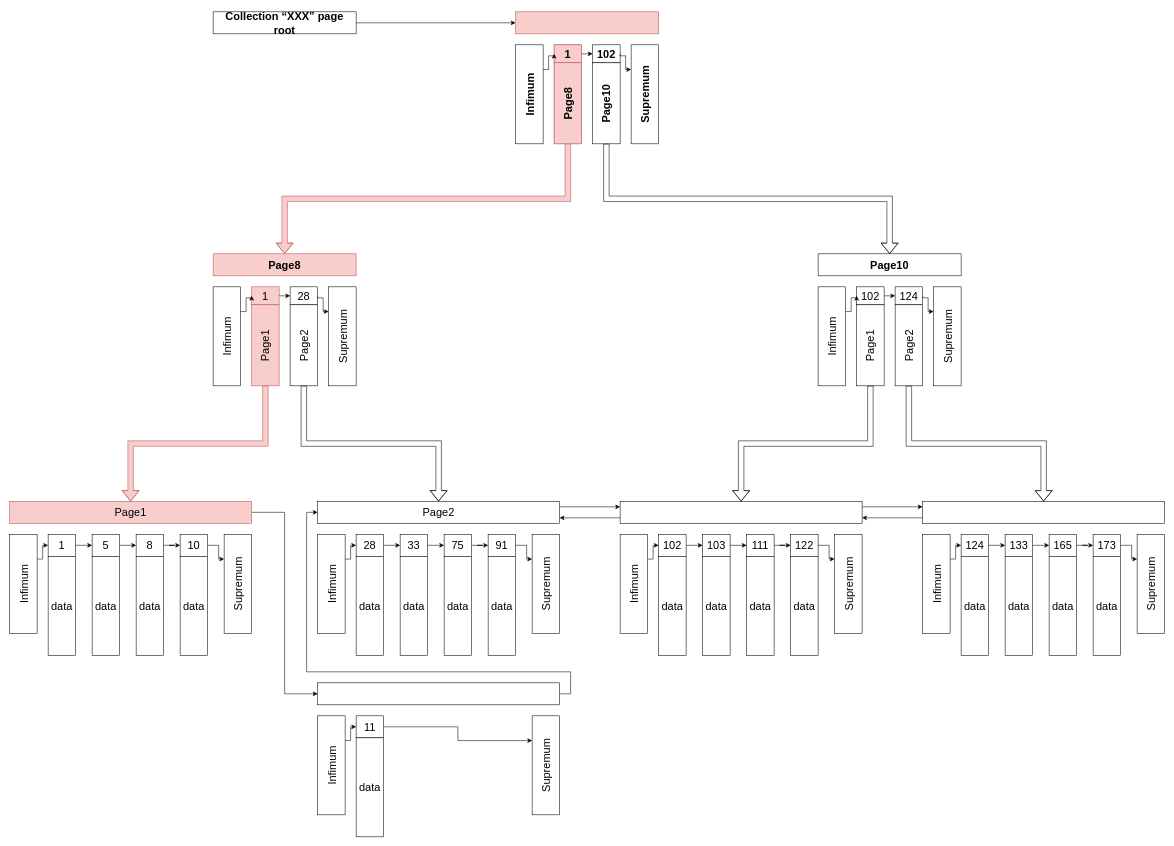
Some shapes in this 1174 by 846 pixel diagram are drawn without their labels. The centre of each missing label's shape, as x and y in pixels:
"Page200" belongs at [587,22].
"Page67" belongs at [741,512].
"Page77" belongs at [1043,512].
"Page88" belongs at [438,693].
